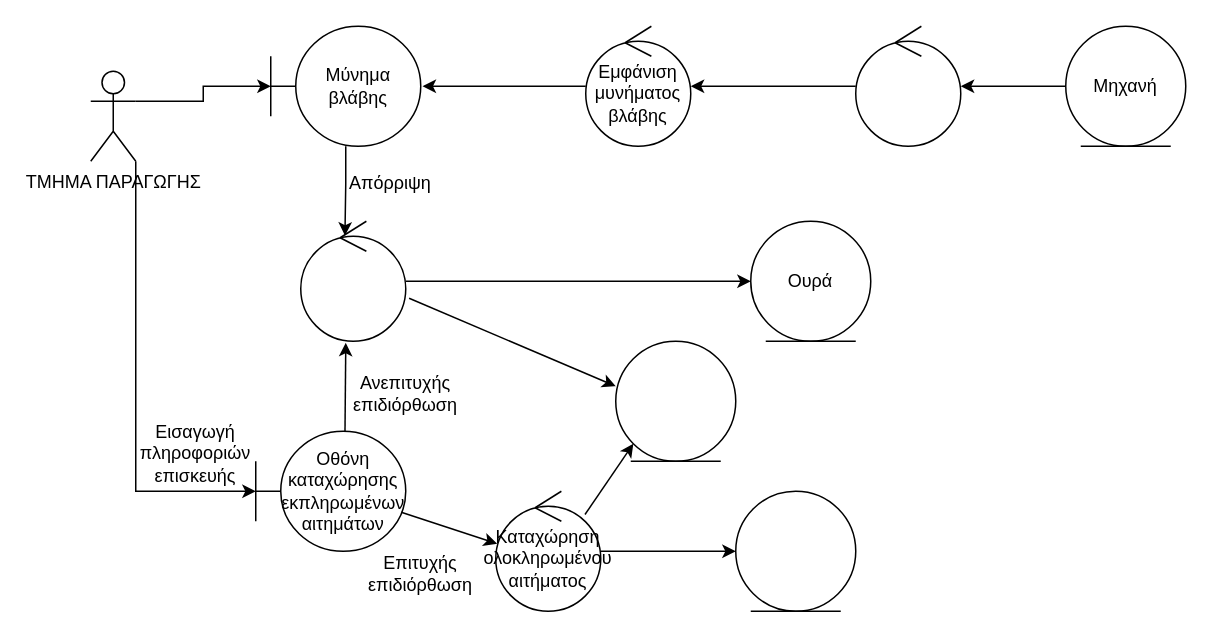
Some shapes in this 1212 by 638 pixel diagram are drawn without their labels. The centre of each missing label's shape, as x and y in pixels:
"Αίτημα επιδιόρθωσης" goes at point (675, 400).
"Εισαγωγή αιτήματος σε ουρά" goes at point (352, 280).
"Ενημέρωση συστήματος για σφάλμα" goes at point (907, 85).
"Ολοκληρωμένες επιδιορθώσεις" goes at point (795, 550).
